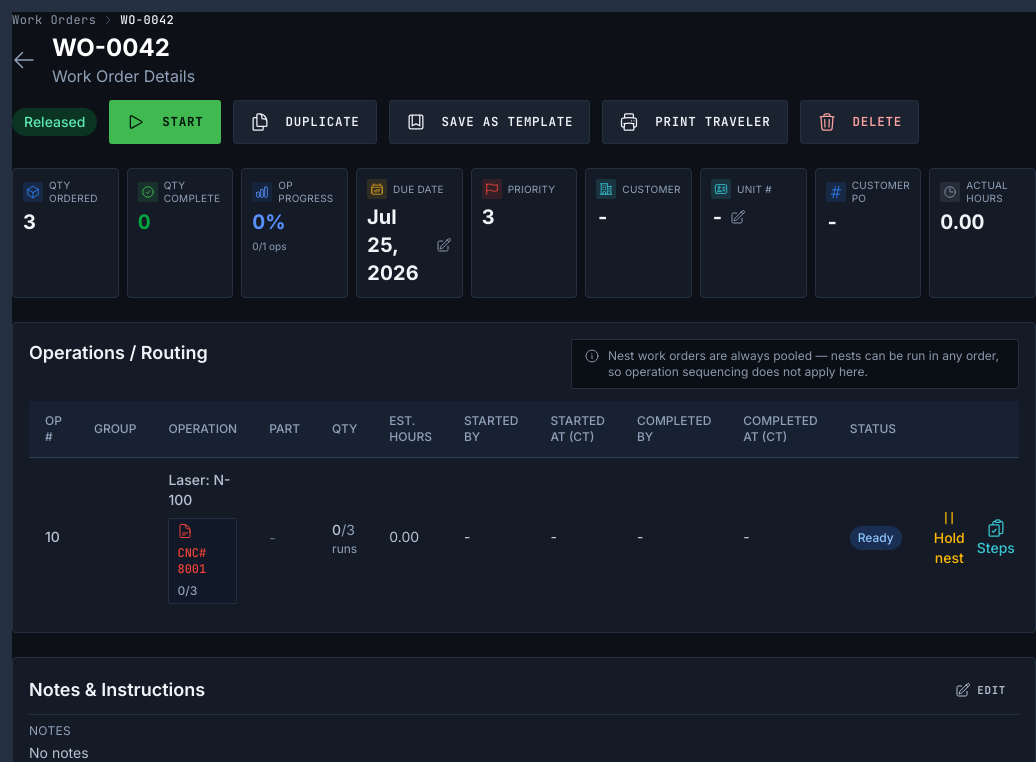
Test: inline due-date edit › on a 409 stale-version conflict it toasts the verbatim detail, keeps the editor open, and refetches
Click the button named "Edit due date" at (444, 245), box [436,237,452,253]
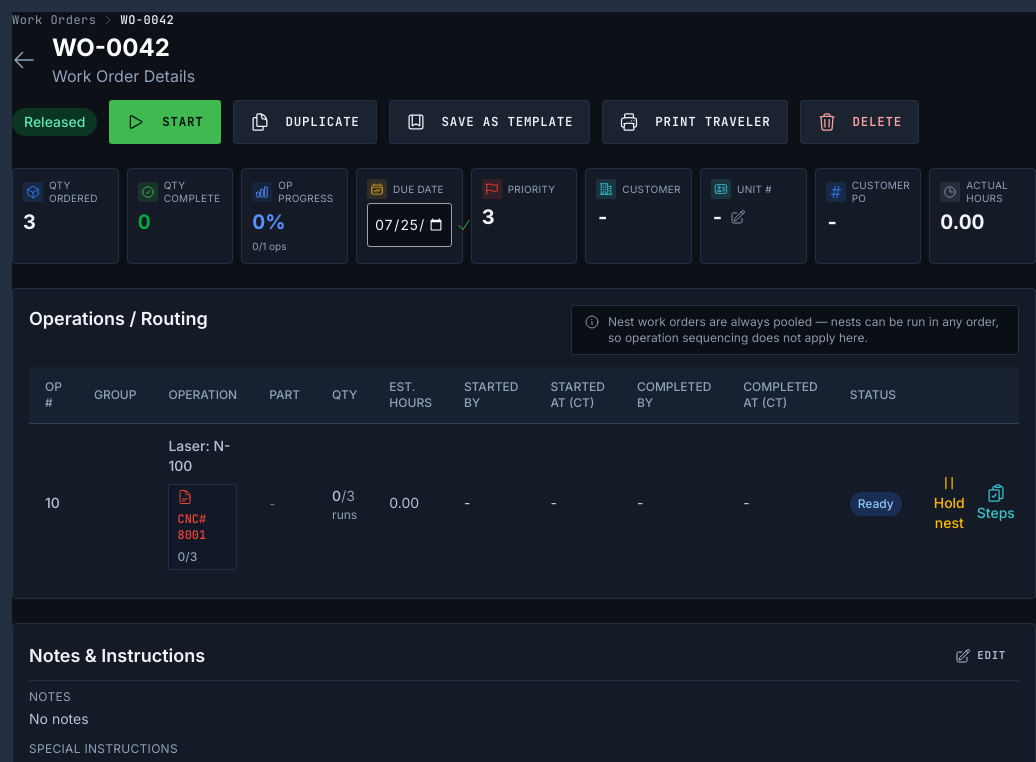
Type "2026-08-01" into the date field named "Due date" at (409, 225), box [367,203,452,247]
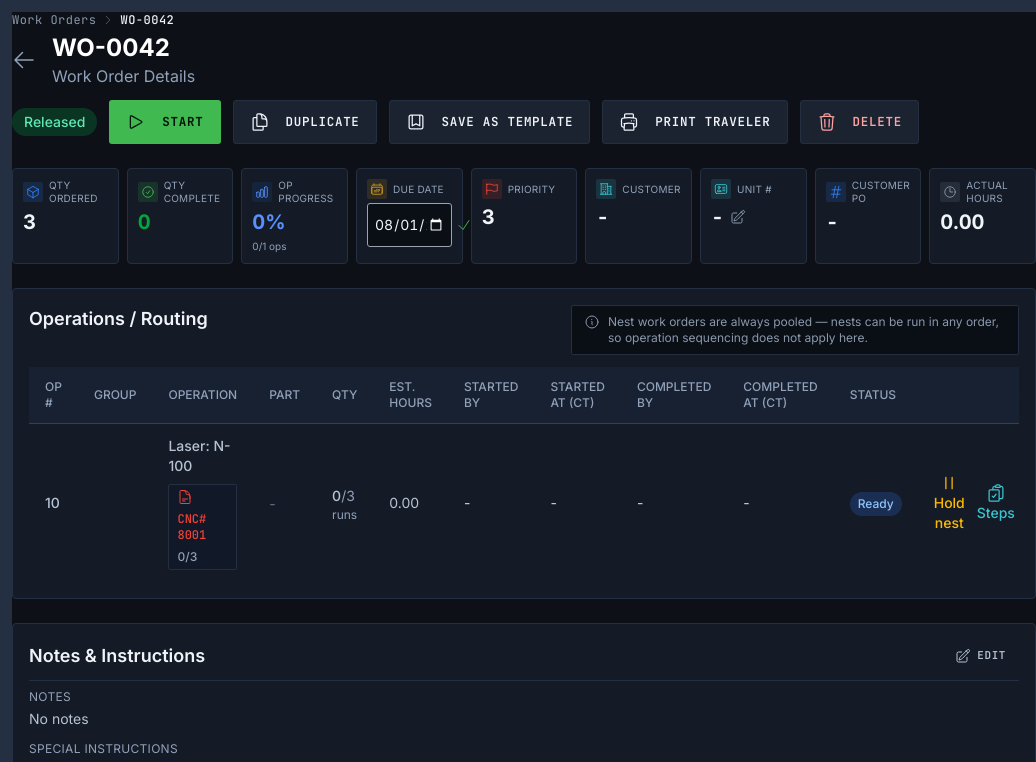
Click the button named "Save due date" at (464, 225), box [456,217,472,233]
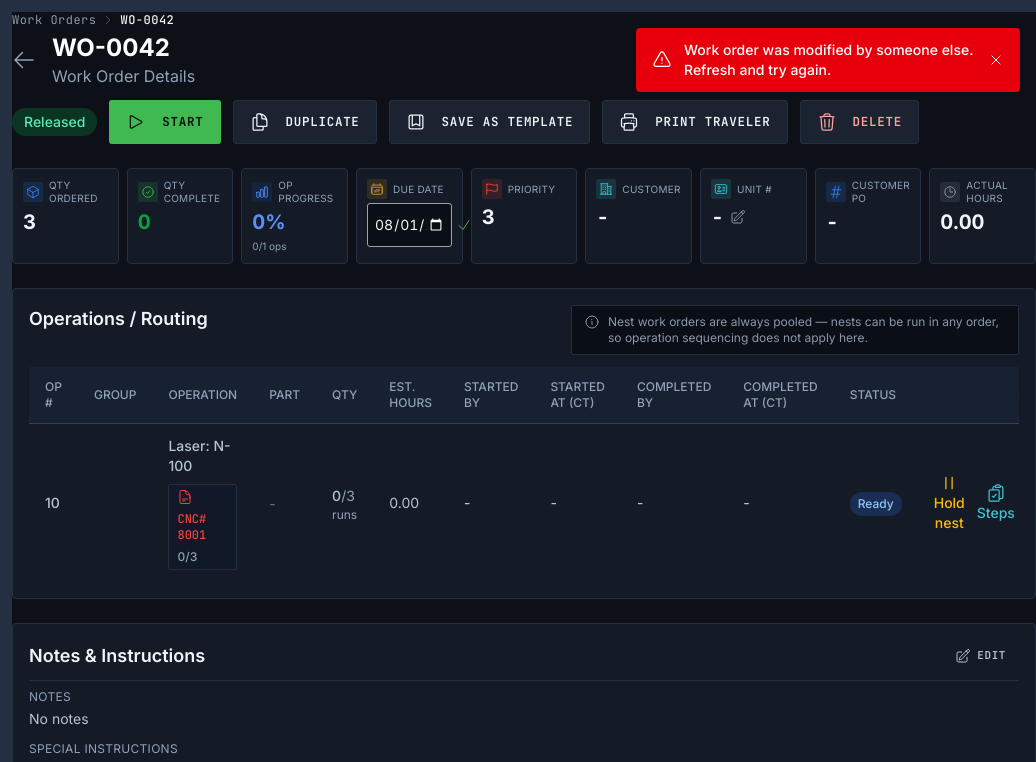
Expected: the text "Work order was modified by someone else. Refresh and try again." is shown, [684,40,976,80]
